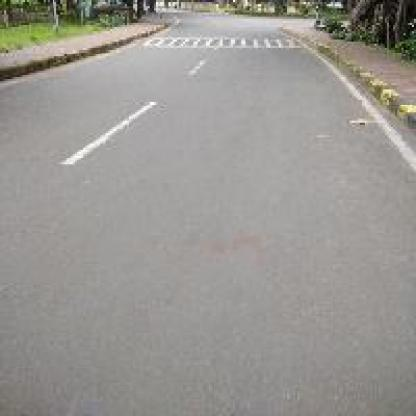Speed Bump: (135, 33, 310, 48)
